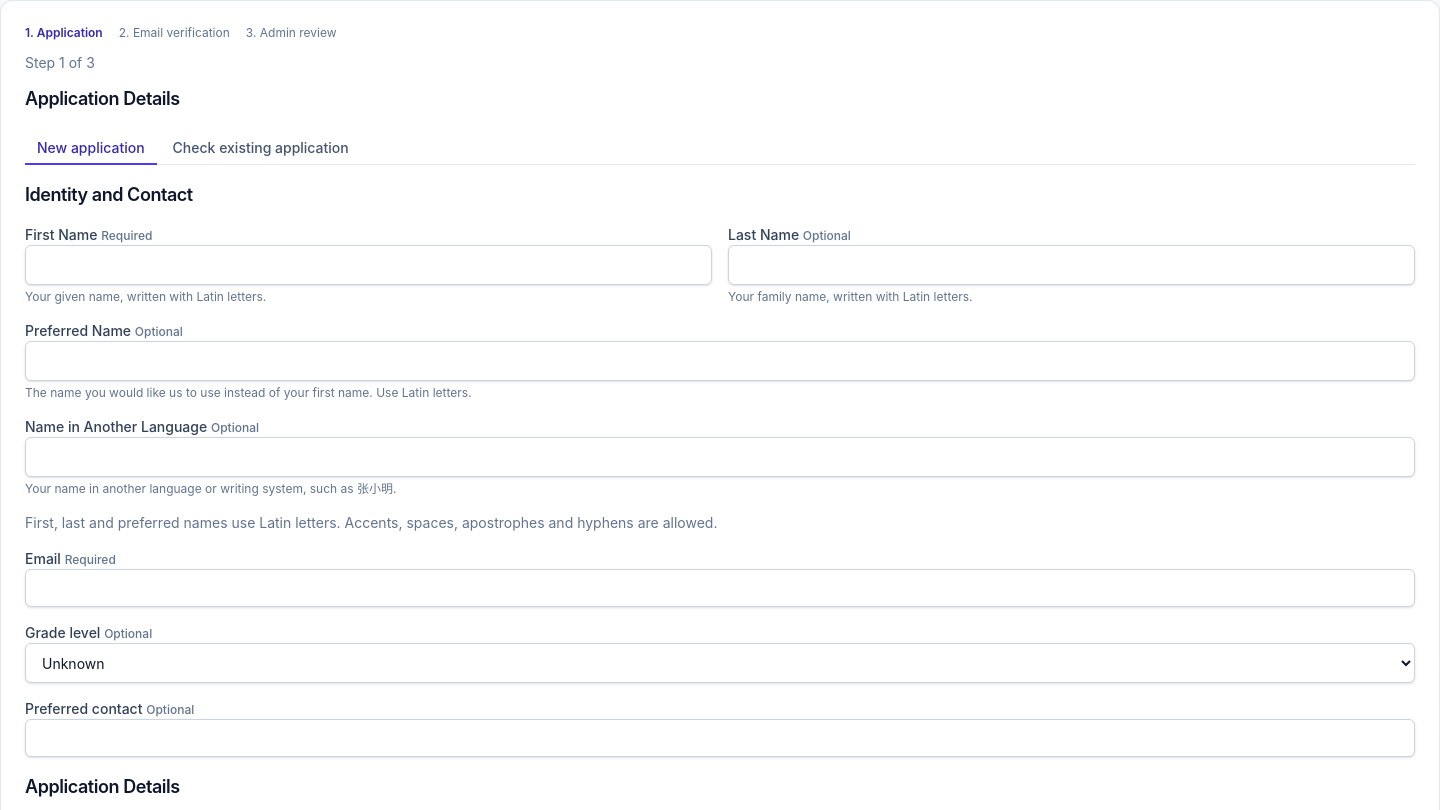
Scenario: requires mailbox verification for an existing application using the status CAPTCHA action
Click the tab "Check existing application" at (261, 149), box [161,133,361,165]
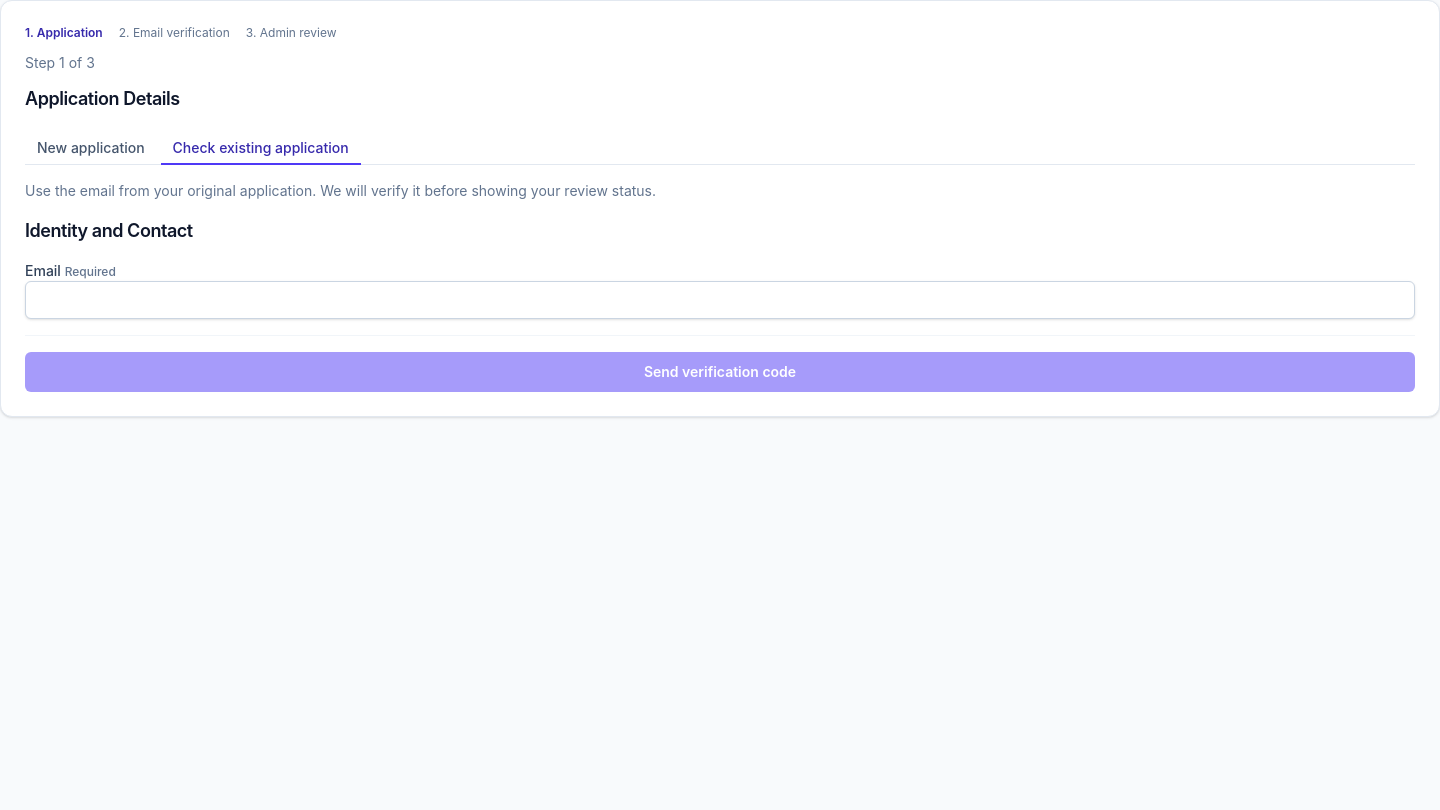
Type "Crew@Example.Test" into the field with id "crew-email" at (720, 300), box [25,281,1415,319]
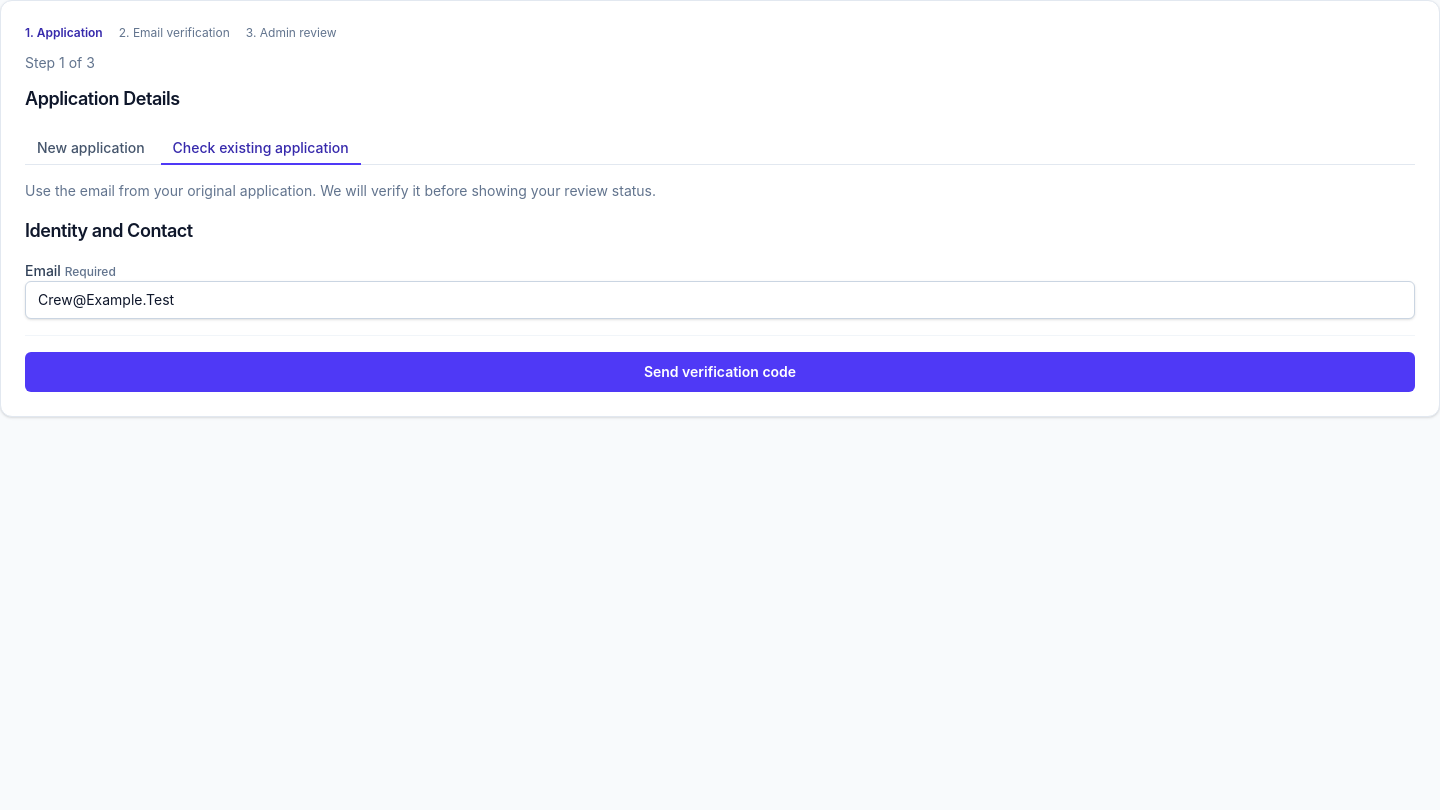
Submit the form, box [25,181,1415,392]
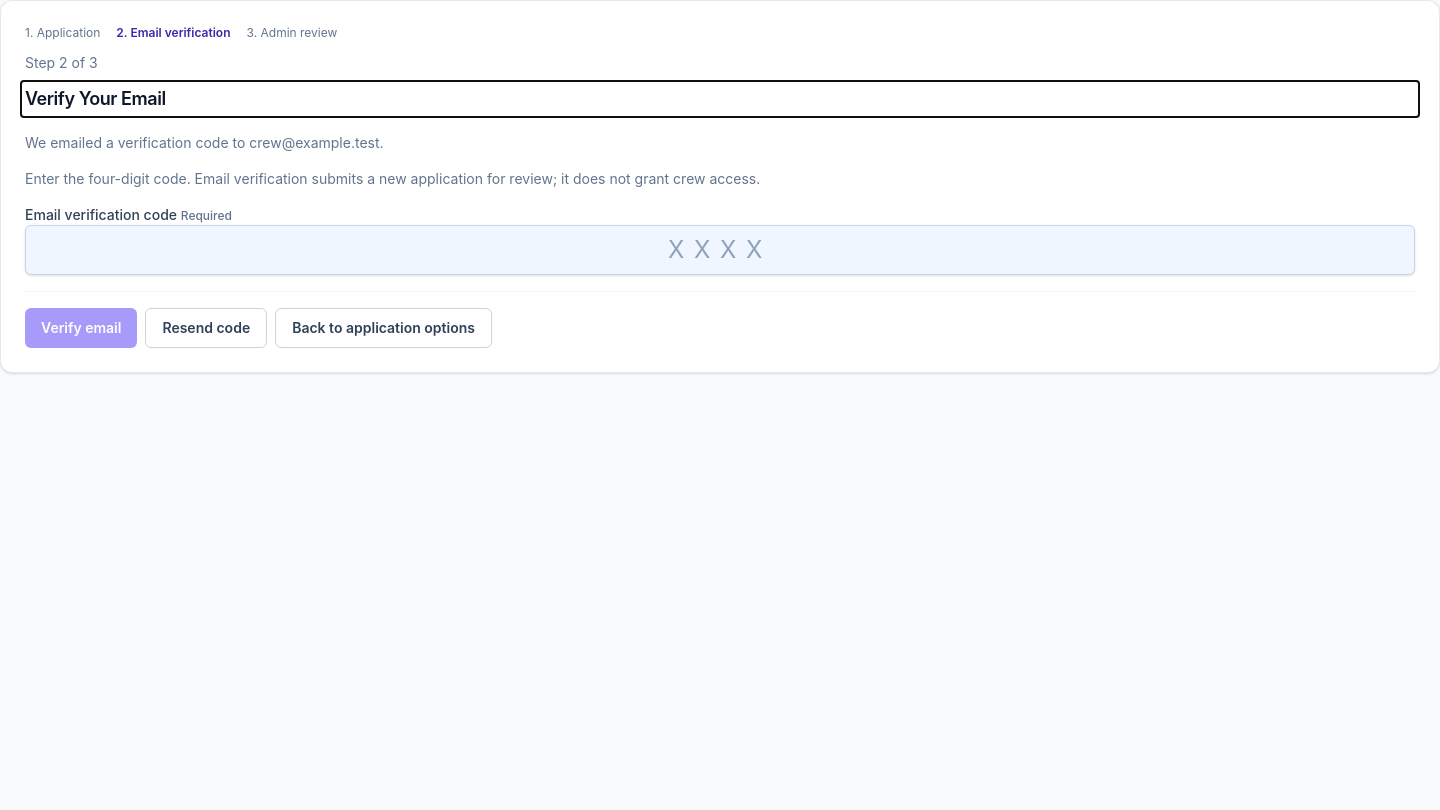
Check: the field with id "crew-code" is shown, box [25,225,1415,275]
